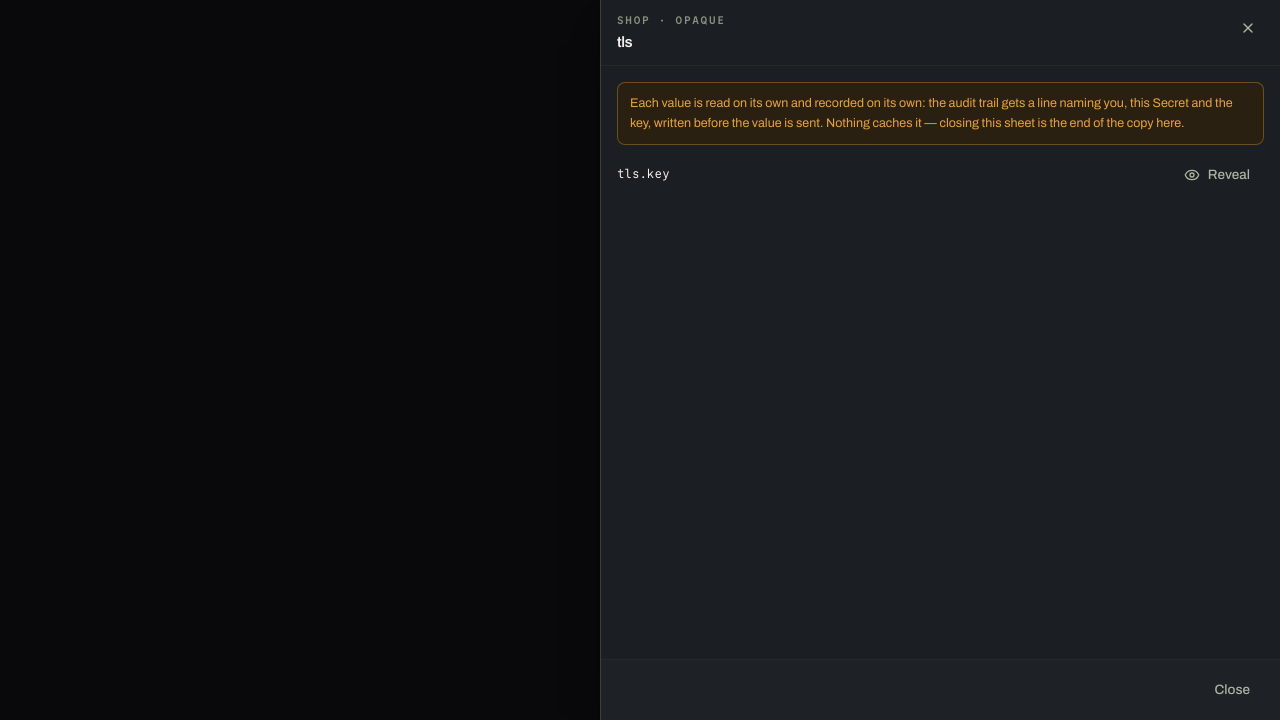
Test: SecretRevealSheet › leaves a value that is not text encoded rather than mangling it
This screenshot has width=1280, height=720.
Click the button named "Reveal tls.key" at {"x": 1217, "y": 175}, box [1170,157,1264,193]
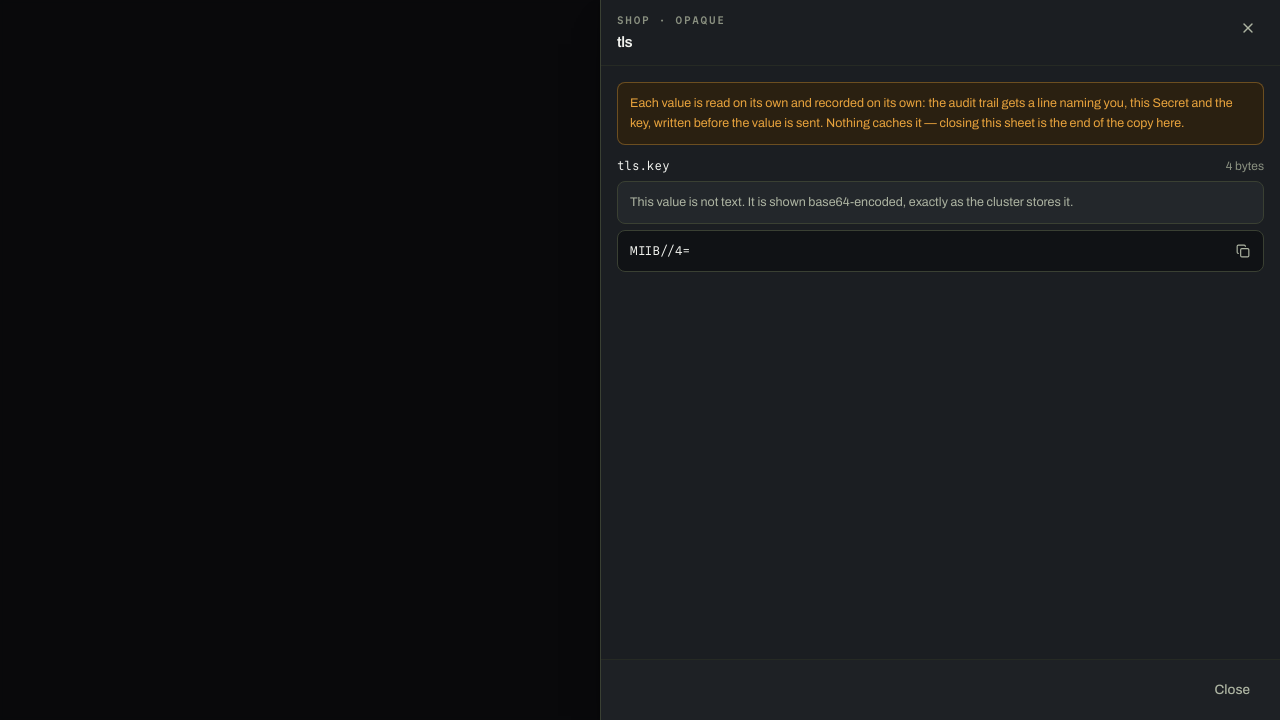
Result: the text "not text" is shown at [630,195,1073,209]
Result: the text "MIIB//4=" is shown at [630,244,690,258]
